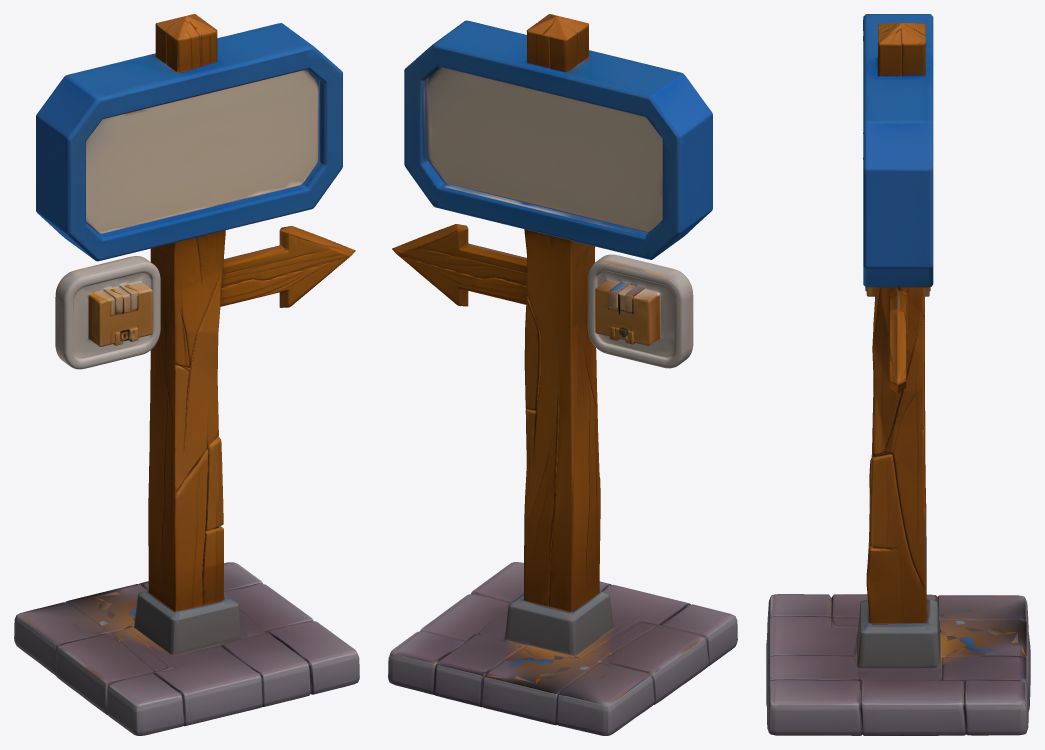
File: DeliverySignpost.fbx
The picture shows the model from 3 angles, left to right: view 1: azimuth 30°, elevation 25°; view 2: azimuth 150°, elevation 25°; view 3: azimuth 270°, elevation 25°; orthographic projection. The views are drawn at different scales.
Parts seen in each view (by area): view 1: texture_pbr_v128; view 2: texture_pbr_v128; view 3: texture_pbr_v128.
Part boxes in pixels (<box>): texture_pbr_v128: <box>14,14,359,735</box>; texture_pbr_v128: <box>388,14,737,735</box>; texture_pbr_v128: <box>766,14,1030,735</box>.
Size of the model in its own units: 52.05 by 106 by 38.47.
1 material, 1 textured.
